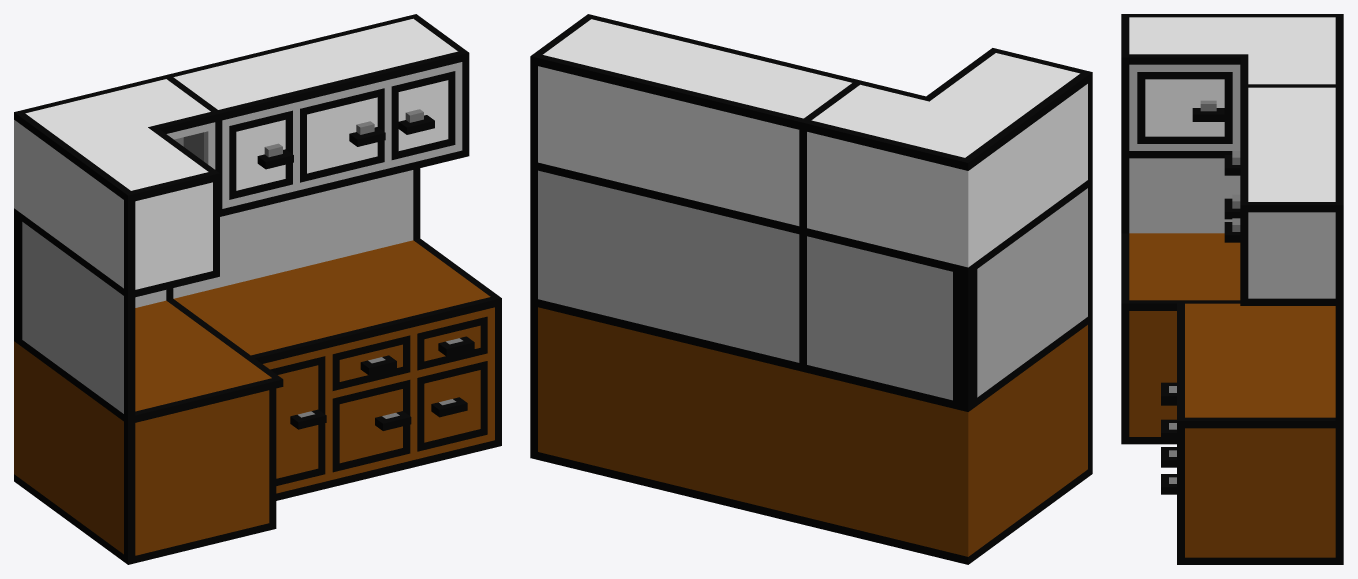
File: KitchenCabinetCorner.obj
3 views of the same model, side by side, from view 1: azimuth 30°, elevation 25°; view 2: azimuth 150°, elevation 25°; view 3: azimuth 270°, elevation 25° (orthographic). The views are drawn at different scales.
Bounding box in the file's own units: 5.7 × 5 × 2.8.
1 material, 1 textured.
